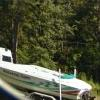Boat: (3, 51, 100, 99)
